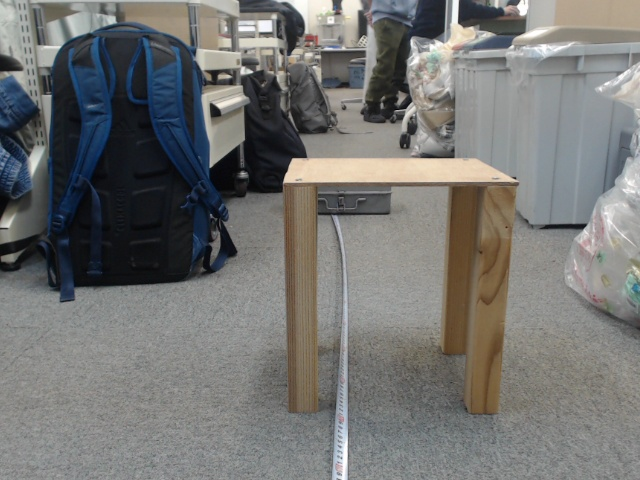desk: (286, 130, 519, 406)
